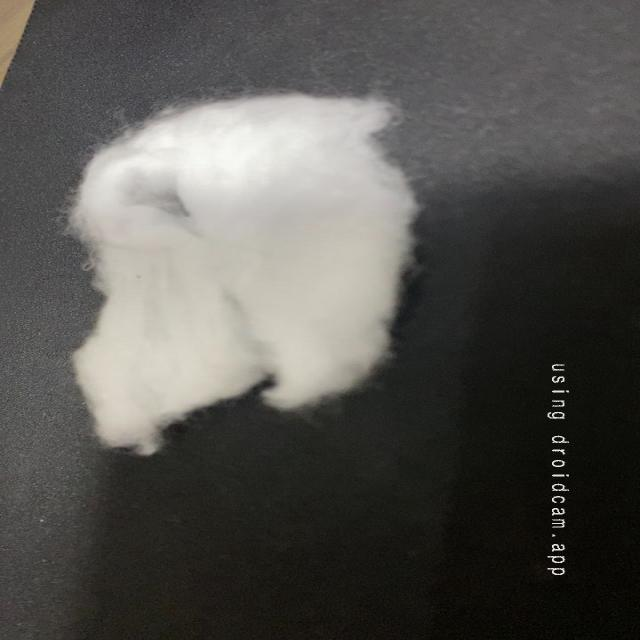cotton: (53, 88, 436, 459)
